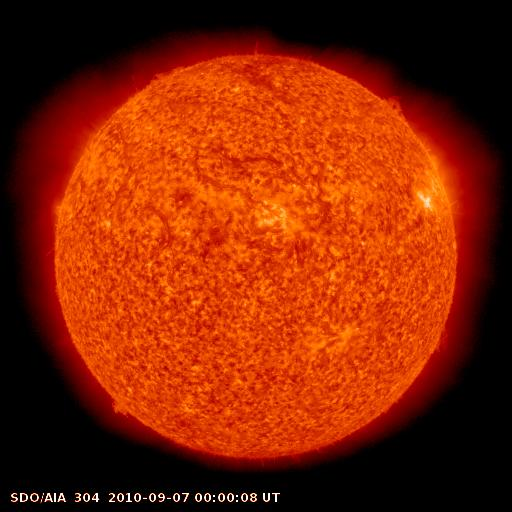prominence: (379, 82, 415, 128), (95, 388, 134, 427), (422, 325, 465, 356)
